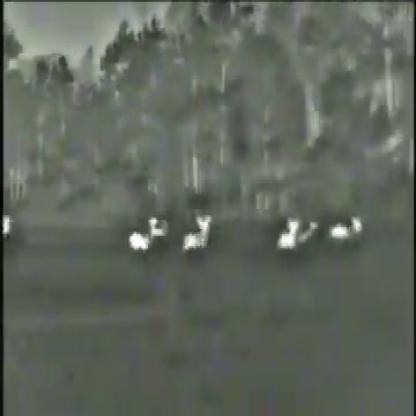rehkitze: (183, 218, 211, 255), (327, 217, 362, 243), (278, 217, 297, 255), (126, 229, 152, 253), (150, 215, 170, 240), (1, 208, 12, 243)
